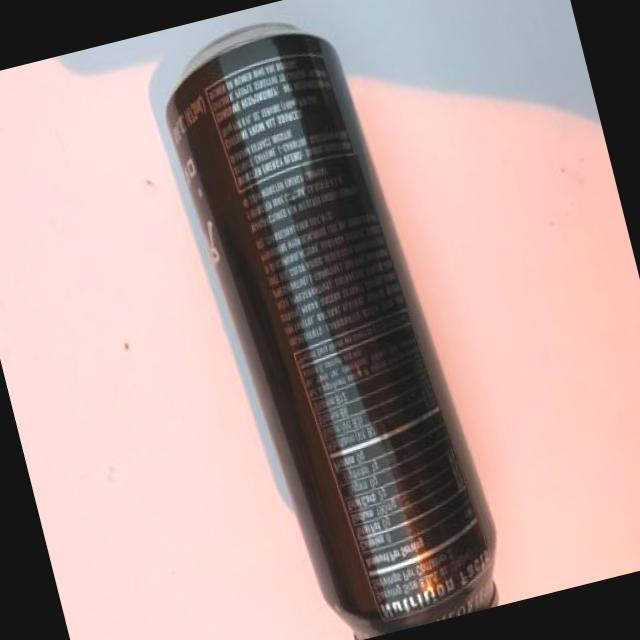nhom: (158, 20, 498, 640)
